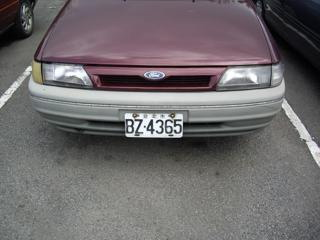plate: (122, 110, 186, 139)
